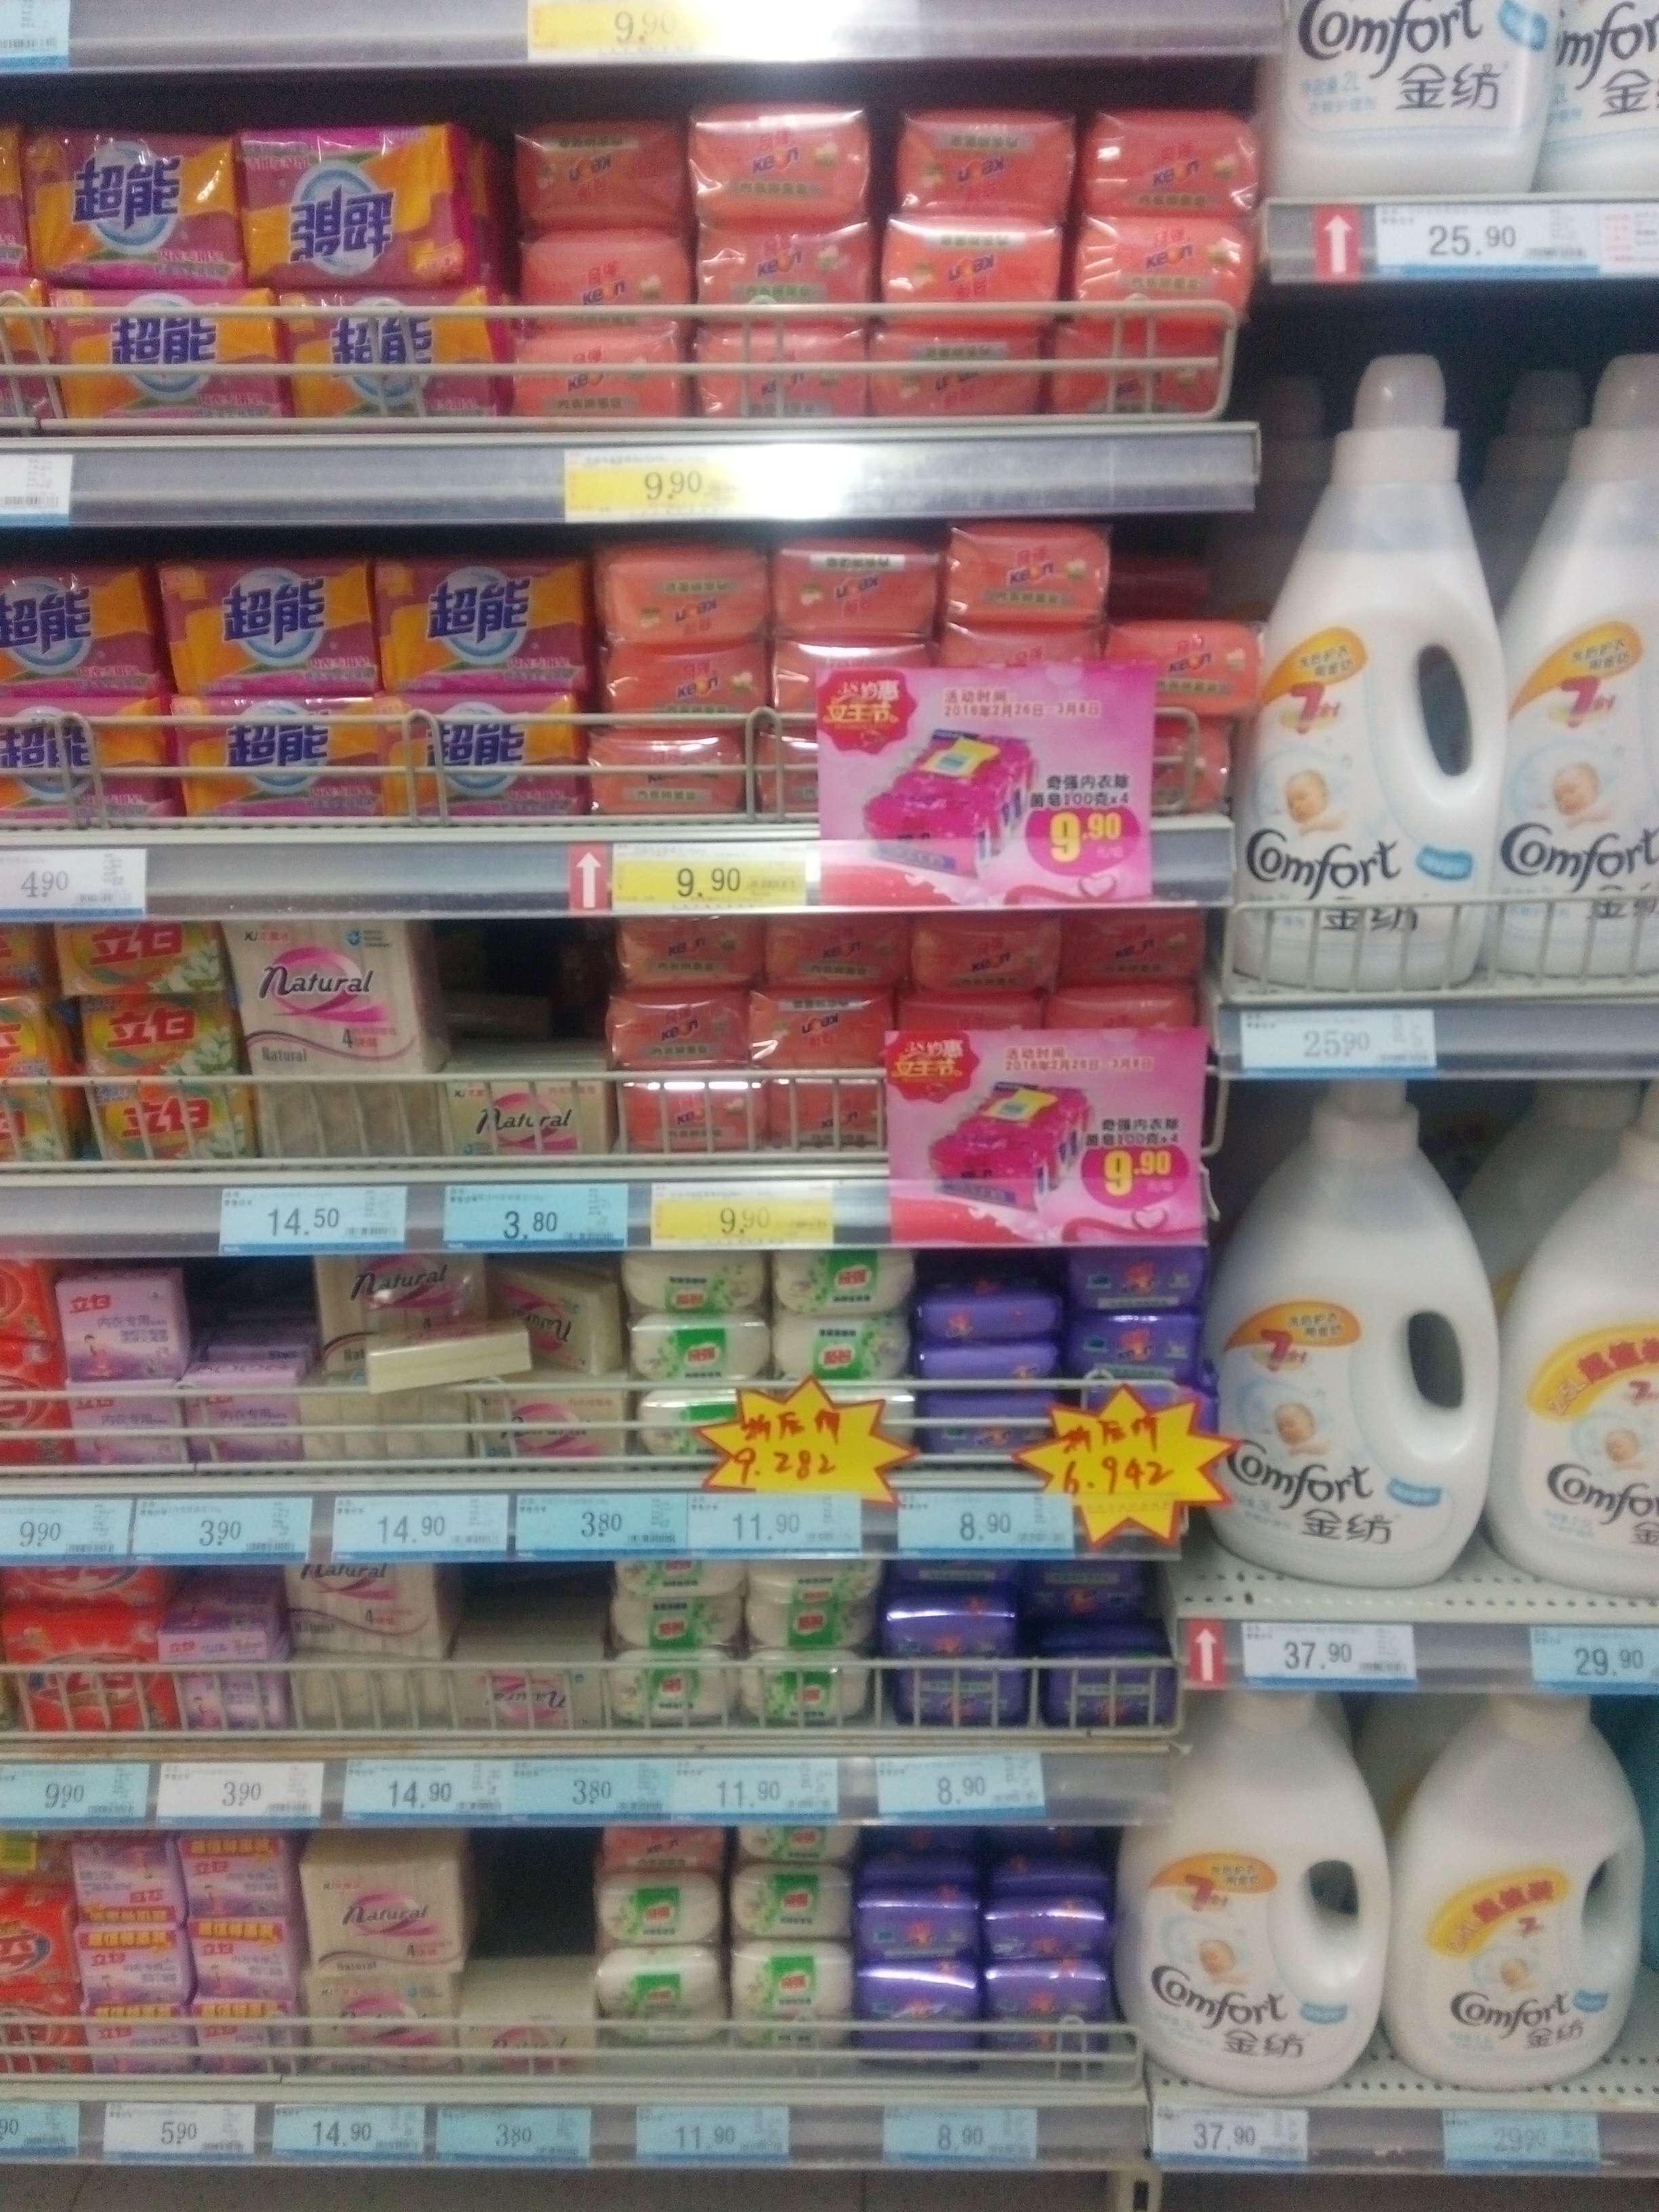misalignment: (286, 1552, 467, 1665), (362, 1320, 549, 1386), (166, 1601, 277, 1656)
